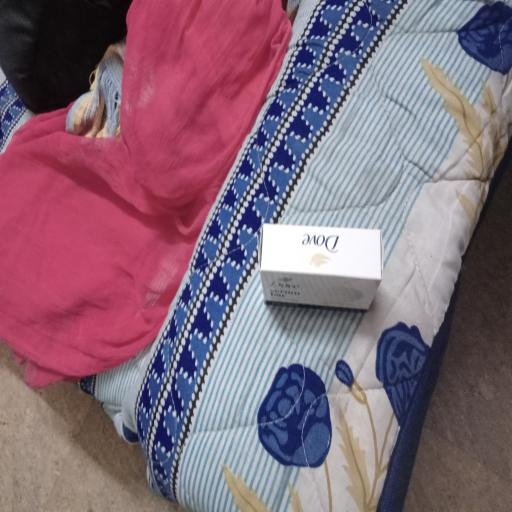Dove`1: (256, 223, 385, 314)
